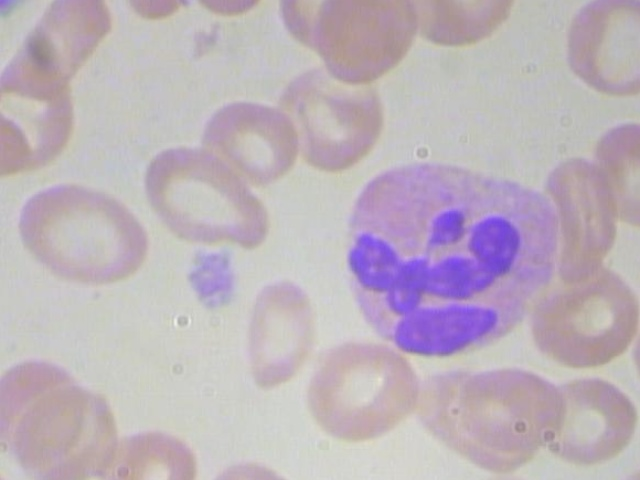Platelets: (175, 248, 245, 319), (0, 0, 30, 20)
RBC: (136, 140, 279, 252), (10, 181, 152, 293), (139, 138, 281, 250), (252, 60, 394, 172), (302, 329, 421, 446), (525, 261, 640, 367), (527, 367, 640, 473), (0, 0, 112, 97), (449, 363, 567, 452), (301, 0, 420, 88), (551, 0, 640, 103), (238, 274, 318, 388), (202, 99, 296, 187), (581, 118, 640, 228), (0, 105, 39, 183)
WBC: (334, 147, 575, 365)
